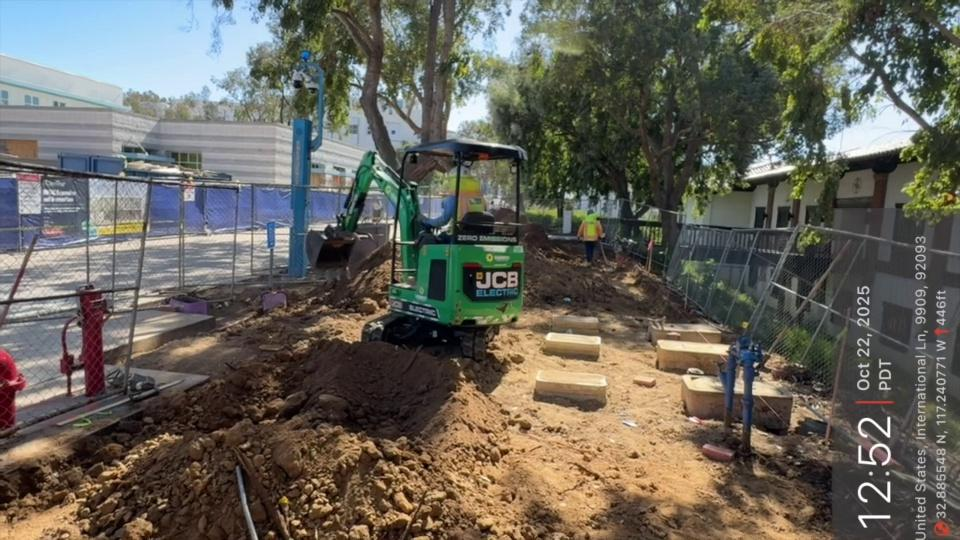Exacavator: (304, 137, 529, 361)
